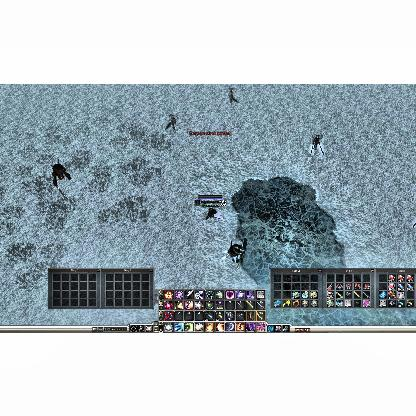caliana: (309, 134, 323, 154), (166, 113, 178, 130), (227, 86, 239, 102)
